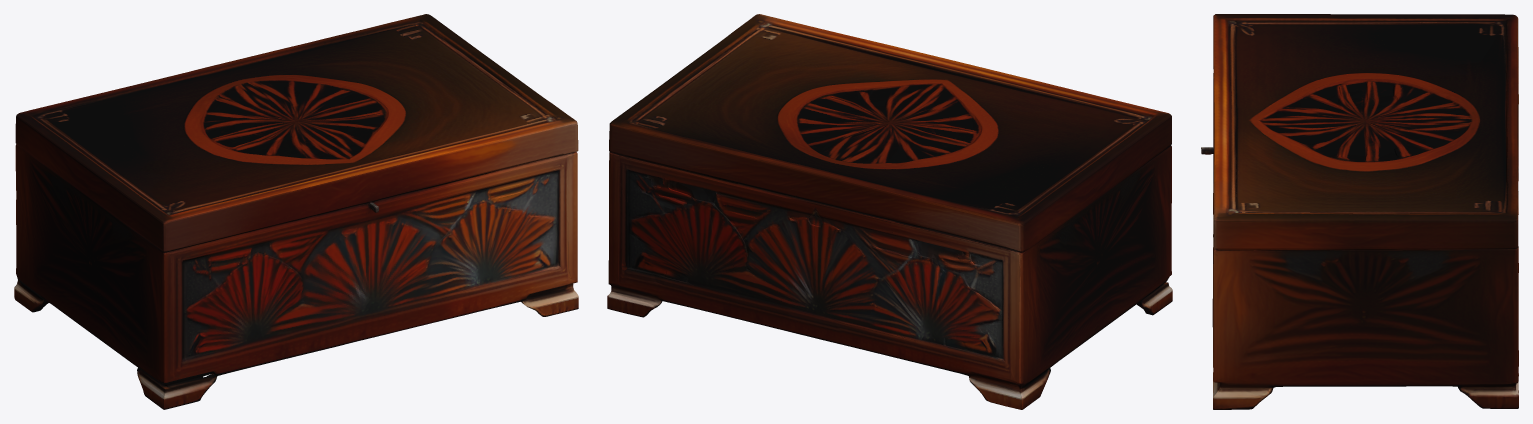
File: wooden-storage-box-art-deco.jpeg.glb
3 views of the same model, side by side, from view 1: azimuth 30°, elevation 25°; view 2: azimuth 150°, elevation 25°; view 3: azimuth 270°, elevation 25° (orthographic).
Parts seen in each view (by area): view 1: world; view 2: world; view 3: world.
Boxes of the visible parts, x1,y1,x2,y2 form: world: (14, 14, 578, 409); world: (607, 14, 1172, 409); world: (1201, 14, 1518, 409).
Bounding box in the file's own units: 1 × 0.4332 × 0.6516.
Materials: 1 (1 with a texture image).
